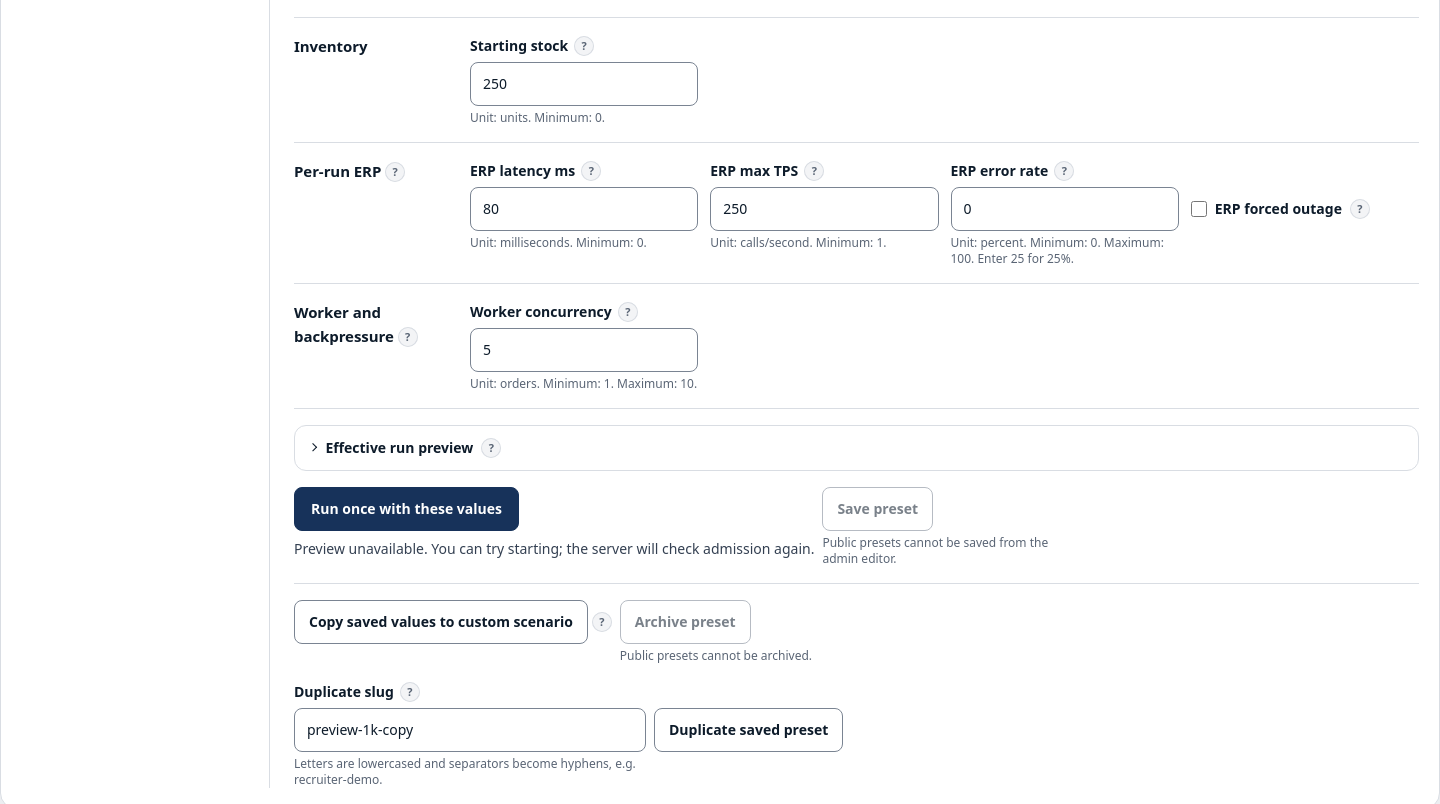
Test case: admin admission surface › allows an authoritative start after a preview failure and hides admission after acceptance
(page scrolled)
Expected: the text "Preview unavailable. You can try starting" is shown, [294, 538, 814, 558]
Click the button "Run once with these values".
click(406, 508)  # box [294, 486, 519, 530]
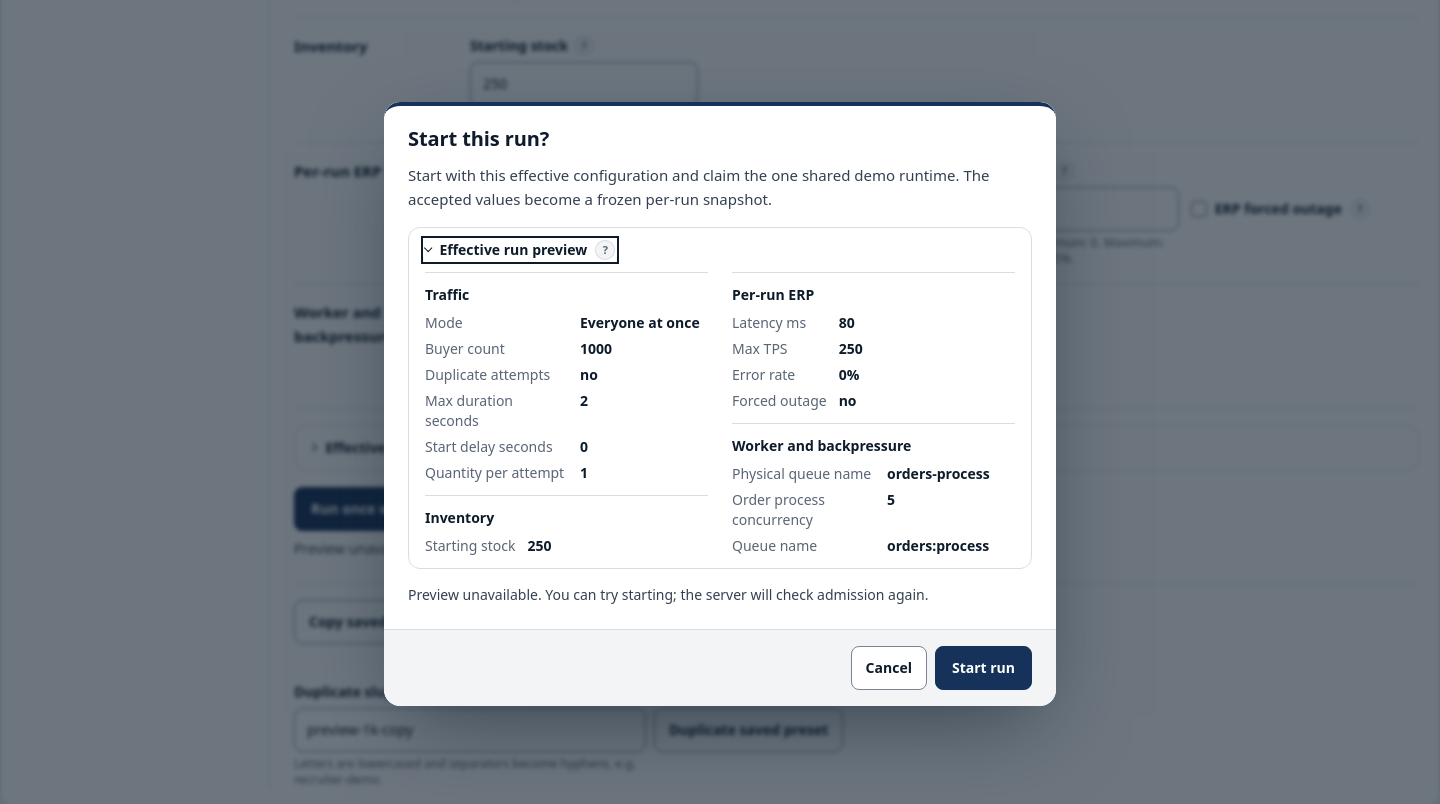
Click the button "Start run".
click(983, 668)  # box [935, 646, 1032, 690]
Wait 300 ms
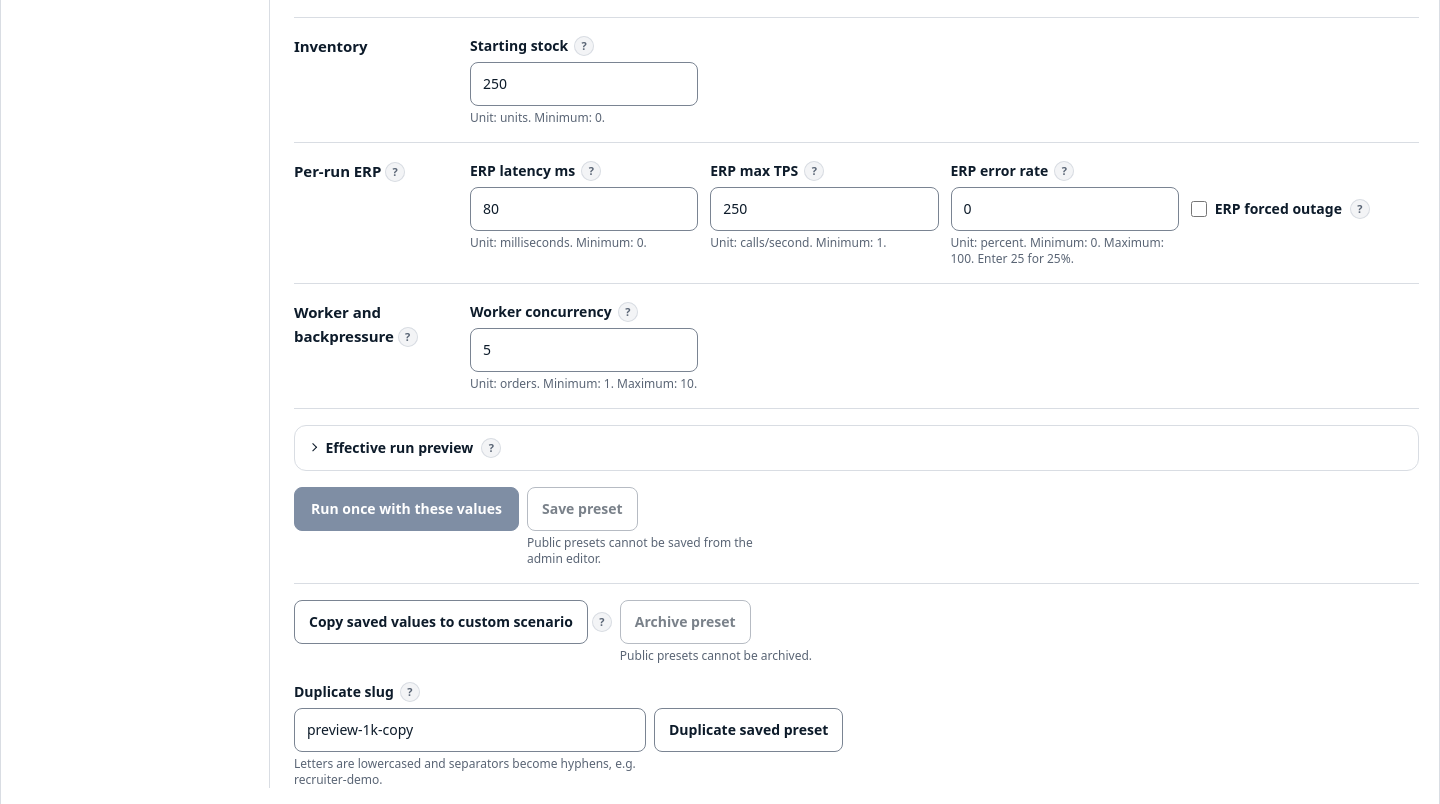
Result: the text "Preview unavailable" is gone
Result: the button "Run once with these values" is disabled at [294, 486, 519, 530]
